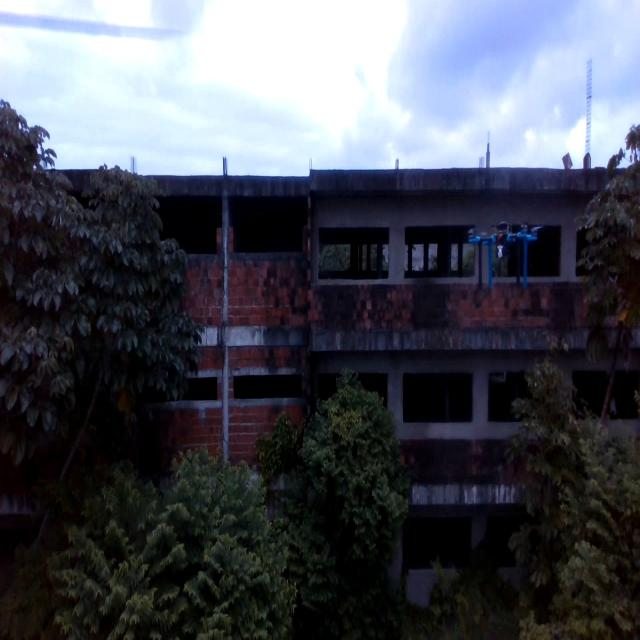-uav-: (452, 206, 562, 314)
